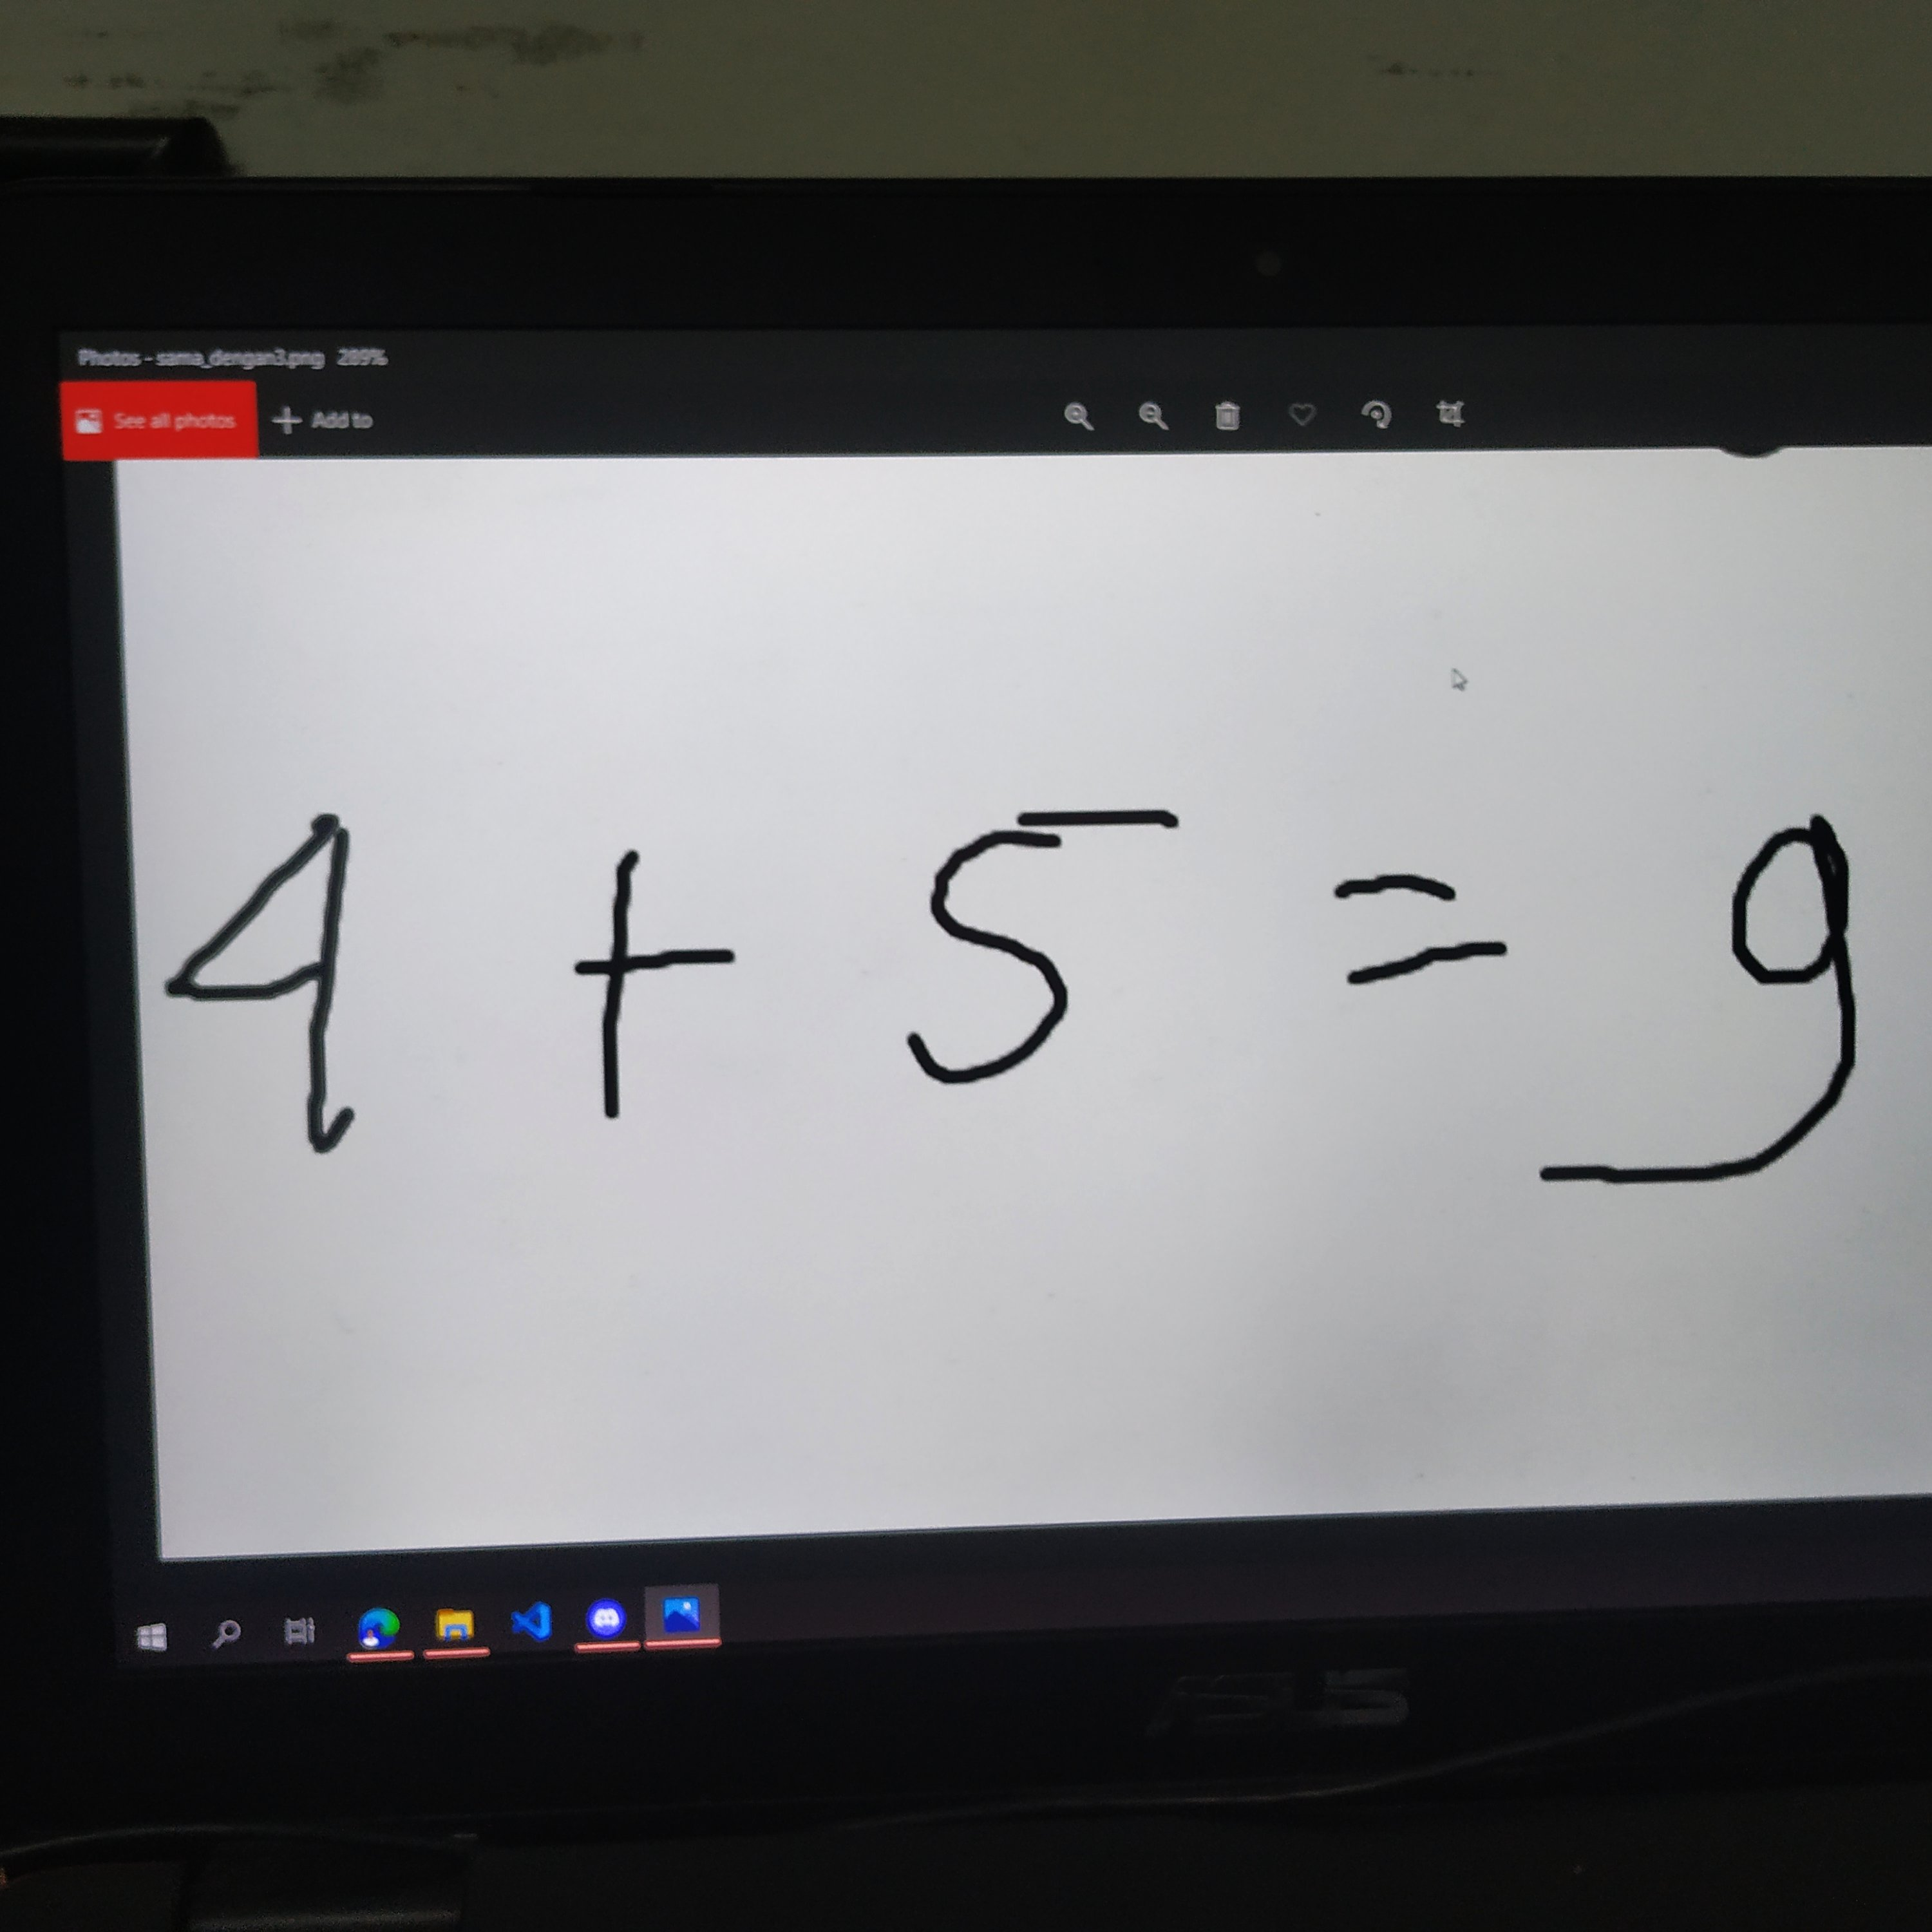equal: (1321, 843, 1542, 1022)
num4: (146, 793, 418, 1178)
num5: (855, 783, 1216, 1113)
num9: (1519, 787, 1904, 1219)
sum: (536, 831, 736, 1157)
